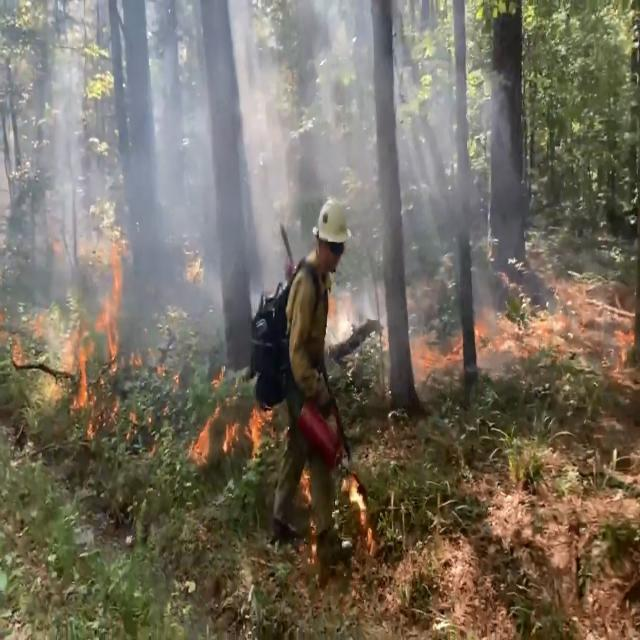Fire: (41, 232, 128, 418)
